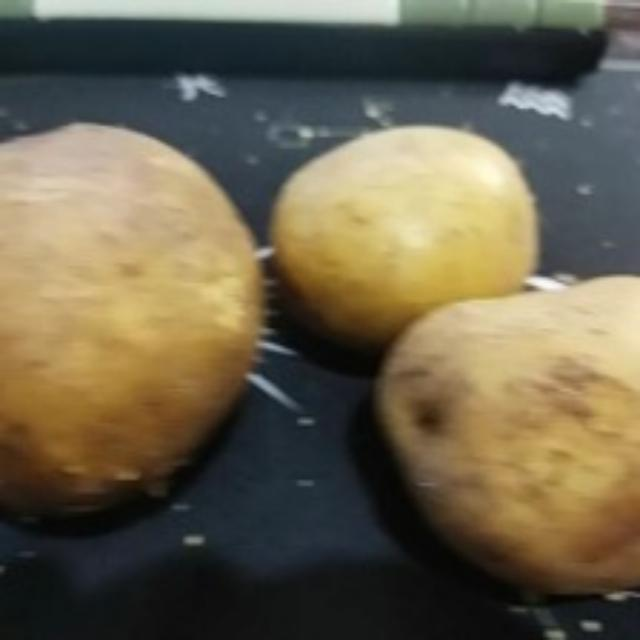Damaged potato: (4, 113, 276, 517), (372, 276, 640, 604)
Potato: (269, 124, 551, 350)
